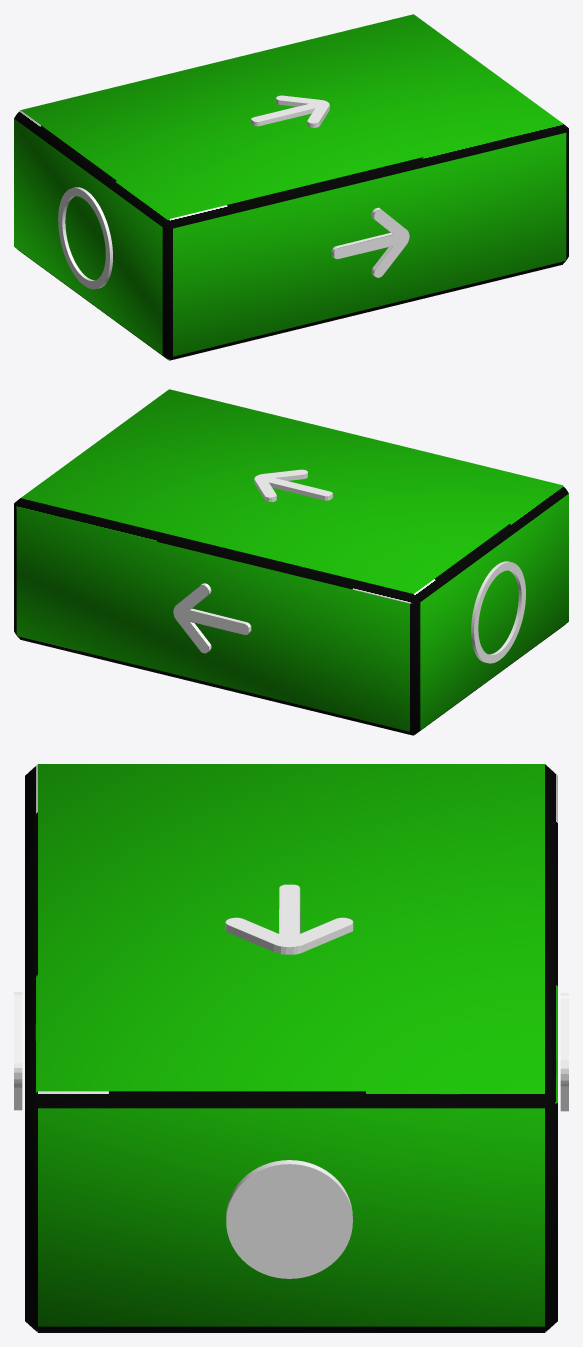
Rendered from BigBoxTapFlowBox_2_1_3_Line_test.fbx.
The picture shows the model from 3 angles, top to bottom: view 1: azimuth 30°, elevation 25°; view 2: azimuth 150°, elevation 25°; view 3: azimuth 270°, elevation 25°; orthographic projection. The views are drawn at different scales.
Parts seen in each view (by area): view 1: BigBoxTapFlowBox_2_1_3_Line_test; view 2: BigBoxTapFlowBox_2_1_3_Line_test; view 3: BigBoxTapFlowBox_2_1_3_Line_test.
Part boxes in pixels (x1,y1,x2,y2): BigBoxTapFlowBox_2_1_3_Line_test: [14, 14, 568, 360]; BigBoxTapFlowBox_2_1_3_Line_test: [14, 389, 568, 735]; BigBoxTapFlowBox_2_1_3_Line_test: [14, 764, 568, 1332].
Size of the model in its own units: 3.22 by 1.14 by 2.18.
Materials: 1 (1 with a texture image).
